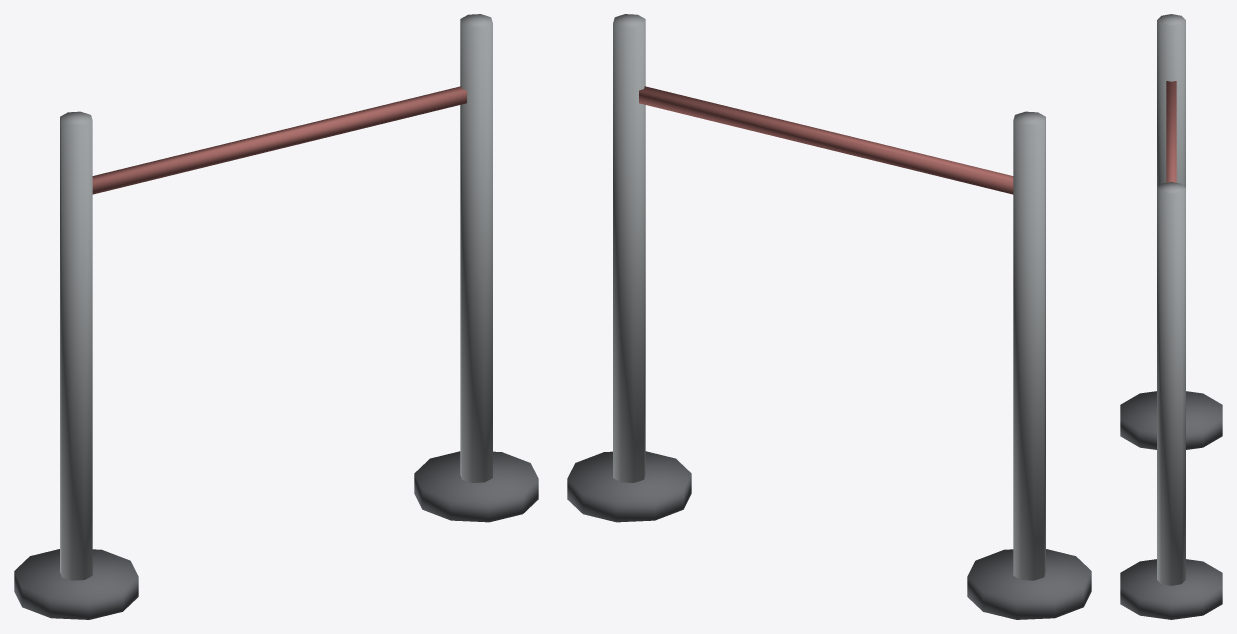
File: museum_rope_barrier__tall.glb
3 views of the same model, side by side, from view 1: azimuth 30°, elevation 25°; view 2: azimuth 150°, elevation 25°; view 3: azimuth 270°, elevation 25° (orthographic). The views are drawn at different scales.
Visible parts, largest first — view 1: world; view 2: world; view 3: world.
Part boxes in pixels (x1,y1,x2,y2): world: [14, 14, 538, 619]; world: [567, 14, 1091, 619]; world: [1120, 14, 1222, 619].
Size of the model in its own units: 1.22 by 1.09 by 0.2473.
